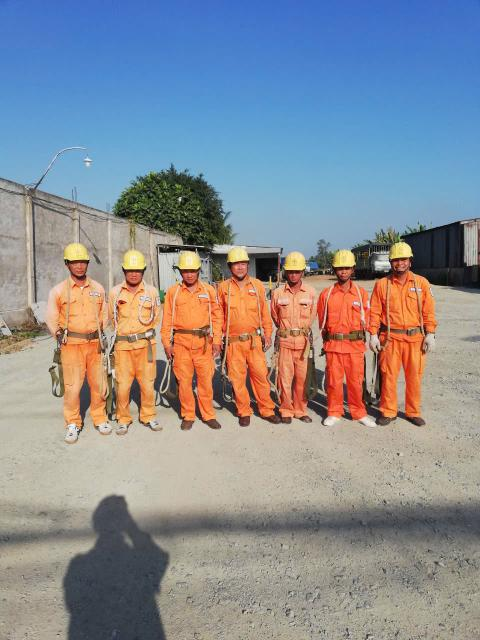gloves: (421, 329, 439, 360), (365, 333, 384, 356)
harness: (384, 325, 427, 337), (64, 329, 105, 341), (174, 326, 210, 339), (325, 331, 364, 342), (278, 327, 309, 338), (114, 334, 155, 341), (226, 333, 260, 341)
helmet: (57, 242, 96, 270), (277, 250, 315, 277), (117, 251, 152, 277), (328, 248, 364, 273), (172, 249, 204, 276), (385, 241, 418, 265), (223, 249, 252, 269)
shoes: (60, 421, 83, 447), (350, 412, 379, 432), (403, 409, 430, 428), (376, 410, 402, 429), (203, 413, 229, 432), (141, 415, 167, 434), (174, 414, 199, 432), (235, 409, 256, 430), (322, 410, 344, 428), (263, 411, 283, 428), (92, 422, 114, 437), (296, 411, 313, 426), (116, 422, 133, 435), (281, 413, 294, 426)
